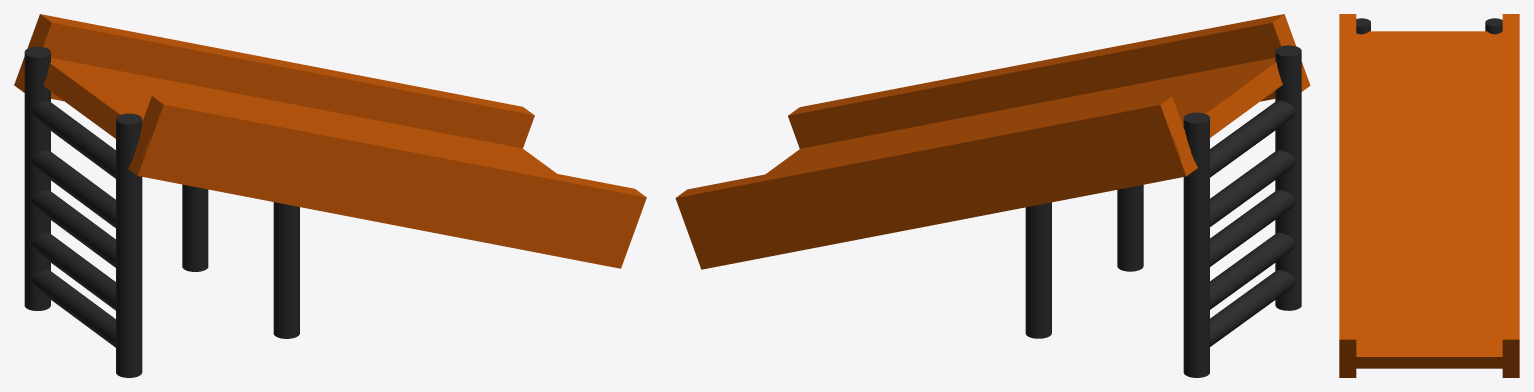
File: Slide.fbx
3 renders of one model, left to right at view 1: azimuth 30°, elevation 25°; view 2: azimuth 150°, elevation 25°; view 3: azimuth 270°, elevation 25°, orthographic. The views are drawn at different scales.
Parts seen in each view (by area): view 1: pCylinder10; view 2: pCylinder10; view 3: pCylinder10.
Boxes of the visible parts, x1=… form: pCylinder10: x1=14, y1=14, x2=646, y2=377; pCylinder10: x1=675, y1=14, x2=1310, y2=377; pCylinder10: x1=1339, y1=14, x2=1519, y2=377.
Bounding box in the file's own units: 25.12 × 12.88 × 10.48.
